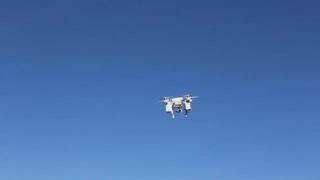UAV: (158, 94, 200, 119)
